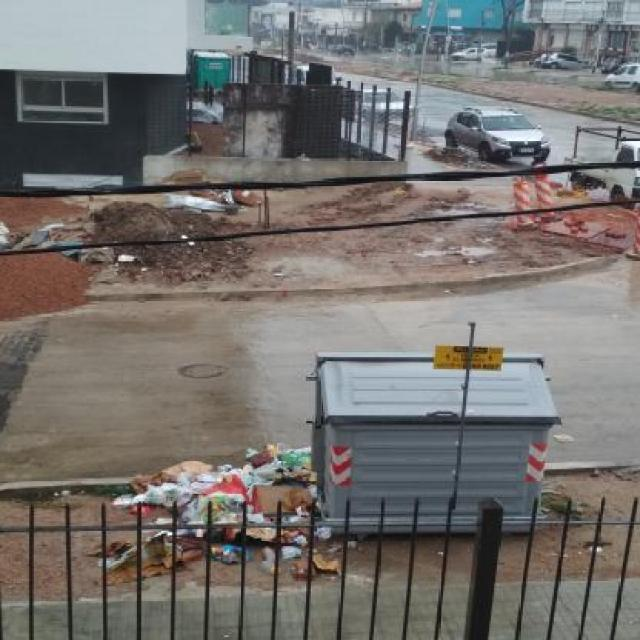garbage: (116, 465, 316, 539), (109, 534, 348, 585)
